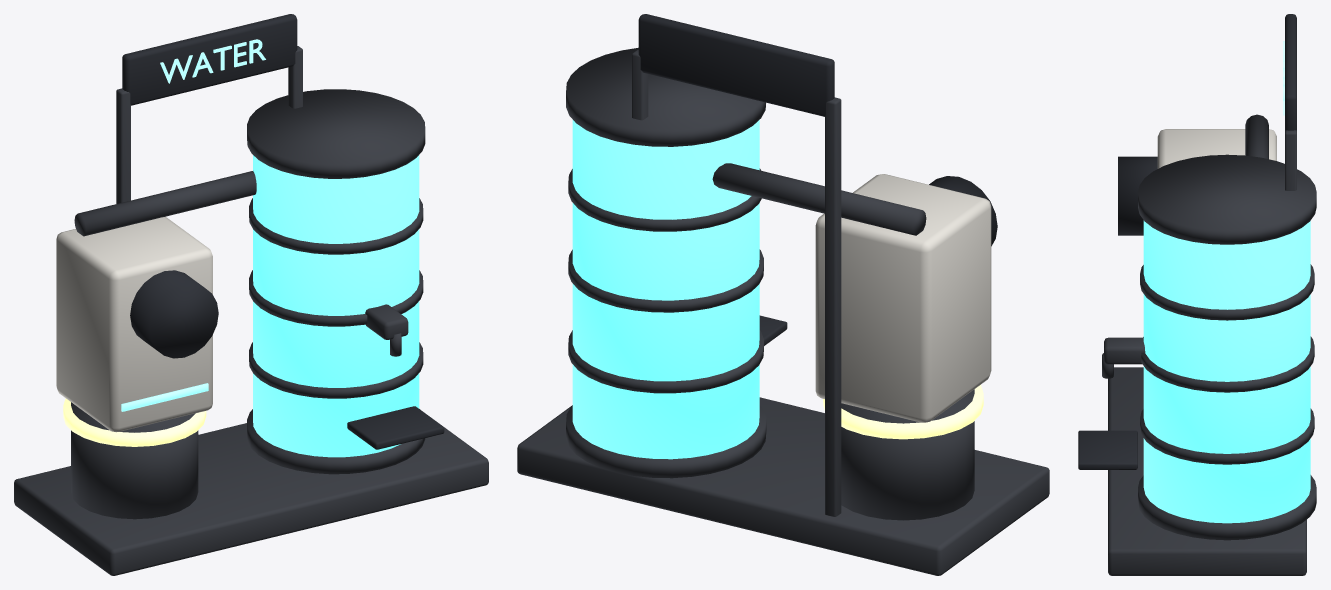
Rendered from WaterPump.fbx.
3 renders of one model, left to right at view 1: azimuth 30°, elevation 25°; view 2: azimuth 150°, elevation 25°; view 3: azimuth 270°, elevation 25°, orthographic. The views are drawn at different scales.
Visible parts, largest first — view 1: Tank, Base, Pump body, Tank cap, Wellhead, Sign plate, Motor, Riser, Tank foot, Drip tray, Wellhead ring, Tank band.002 (+7 smaller); view 2: Tank, Pump body, Base, Wellhead, Sign plate, Tank cap, Sign post, Riser, Tank foot, Tank band, Tank band.001, Wellhead ring (+3 smaller); view 3: Tank, Tank cap, Base, Tank foot, Pump body, Drip tray, Tank band, Tank band.002, Tank band.001, Motor, Sign plate, Tap (+2 smaller).
Boxes of the visible parts, box(x1,y1,x2,y2) form: Tank: box(253, 155, 419, 457); Base: box(14, 412, 488, 575); Pump body: box(56, 216, 212, 432); Tank cap: box(247, 89, 425, 178); Wellhead: box(71, 402, 198, 519); Sign plate: box(122, 14, 297, 105); Motor: box(130, 270, 218, 358); Riser: box(74, 171, 256, 236); Tank foot: box(247, 409, 425, 474); Drip tray: box(347, 406, 444, 449); Wellhead ring: box(63, 398, 206, 446); Tank band.002: box(249, 198, 423, 254); Tank: box(572, 120, 759, 459); Pump body: box(815, 174, 991, 422); Base: box(517, 397, 1049, 575); Wellhead: box(841, 389, 974, 520); Sign plate: box(638, 14, 834, 116); Tank cap: box(566, 47, 765, 146); Sign post: box(825, 97, 841, 516); Riser: box(712, 163, 926, 235); Tank foot: box(566, 405, 766, 478); Tank band: box(568, 330, 763, 393); Tank band.001: box(568, 249, 763, 312); Wellhead ring: box(823, 385, 983, 439); Tank: box(1143, 220, 1310, 523); Tank cap: box(1138, 154, 1316, 244); Base: box(1108, 367, 1306, 575); Tank foot: box(1138, 475, 1316, 540); Pump body: box(1157, 129, 1276, 168); Drip tray: box(1078, 430, 1137, 469); Tank band: box(1140, 408, 1314, 464); Tank band.002: box(1140, 264, 1314, 320); Tank band.001: box(1141, 336, 1314, 392); Motor: box(1118, 156, 1157, 235); Sign plate: box(1285, 14, 1296, 130); Tap: box(1104, 337, 1145, 364).
Bounding box in the file's own units: 2.2 × 2.39 × 1.2.
